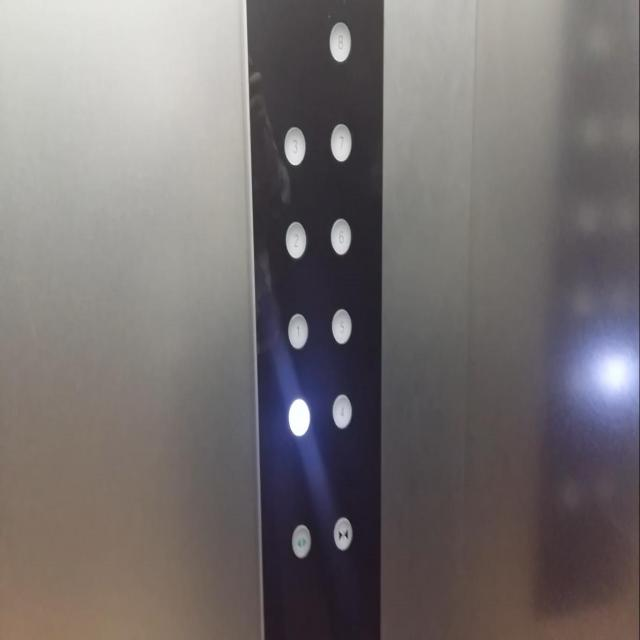1: (286, 311, 308, 350)
2: (284, 218, 306, 258)
3: (283, 124, 305, 166)
4: (330, 391, 352, 429)
5: (331, 306, 351, 345)
6: (329, 215, 351, 257)
7: (329, 120, 352, 162)
8: (328, 19, 351, 64)
close: (332, 515, 353, 550)
empty: (288, 396, 310, 436)
open: (290, 522, 311, 559)
